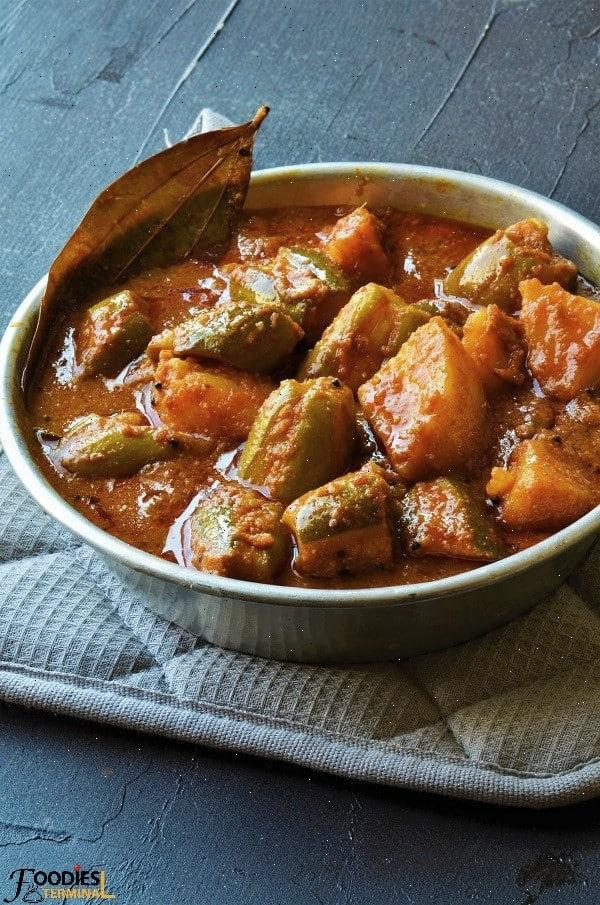aloo sabji: (50, 193, 600, 576)
